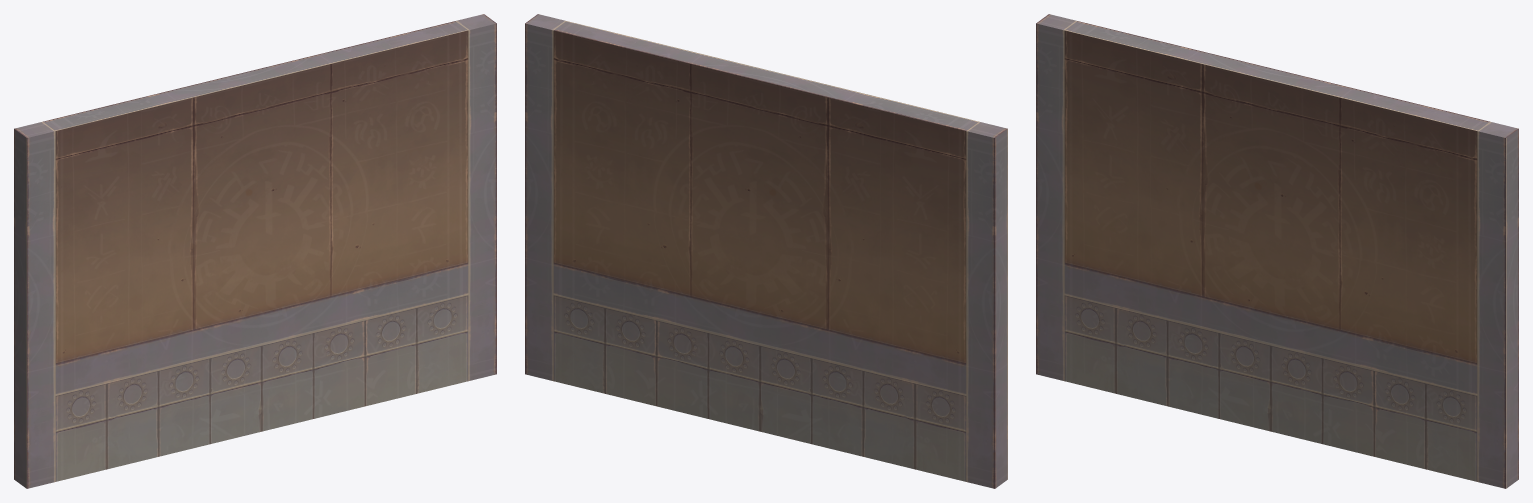
File: Build_Wall_Whole_Rock.fbx
3 views of the same model, side by side, from view 1: azimuth 30°, elevation 25°; view 2: azimuth 150°, elevation 25°; view 3: azimuth 330°, elevation 25° (orthographic).
Visible parts, largest first — view 1: Build_Wall_Whole_Rock; view 2: Build_Wall_Whole_Rock; view 3: Build_Wall_Whole_Rock.
Part boxes in pixels (x1,y1,x2,y2): Build_Wall_Whole_Rock: (14, 14, 496, 488); Build_Wall_Whole_Rock: (525, 14, 1007, 488); Build_Wall_Whole_Rock: (1036, 14, 1518, 488).
Size of the model in its own units: 401 by 286 by 19.11.
